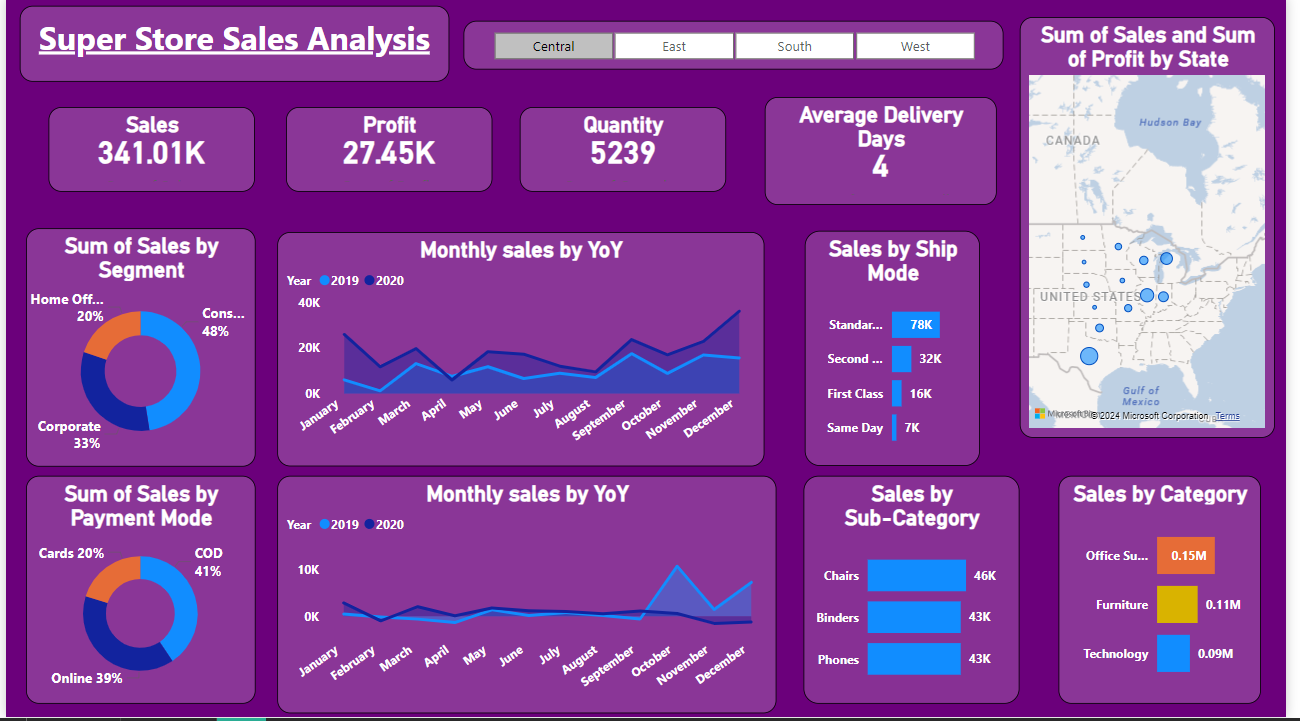

What the dashboard file says about the page in this screenshot:
{"tool":"powerbi","page":{"name":"Page 1","canvas":[1280,720],"ordinal":0},"visuals":[{"type":"clusteredBarChart","title":" Sales by Category","fields":{"Category":["SuperStore_Sales_Dataset.Category"],"Y":["Sum(SuperStore_Sales_Dataset.Sales)"]},"box":[1052.8,478.5,202.5,228.2],"z":0},{"type":"clusteredBarChart","title":" Sales by Sub-Category","fields":{"Category":["SuperStore_Sales_Dataset.Sub-Category"],"Y":["Sum(SuperStore_Sales_Dataset.Sales)"]},"box":[797.6,478.5,216,228.2],"z":1000},{"type":"clusteredBarChart","title":" Sales by Ship Mode","fields":{"Category":["SuperStore_Sales_Dataset.Ship Mode"],"Y":["Sum(SuperStore_Sales_Dataset.Sales)"]},"box":[798.8,234.4,175.5,235.6],"z":2000},{"type":"areaChart","title":" Monthly sales by YoY","fields":{"Y":["Sum(SuperStore_Sales_Dataset.Sales)"],"Series":["SuperStore_Sales_Dataset.Order Date.Variation.Date Hierarchy.Year"],"Category":["SuperStore_Sales_Dataset.Order Date.Variation.Date Hierarchy.Month","SuperStore_Sales_Dataset.Order Date.Variation.Date Hierarchy.Day"]},"box":[270.6,234.8,486.9,234.8],"z":3000},{"type":"areaChart","title":" Monthly sales by YoY","fields":{"Series":["SuperStore_Sales_Dataset.Order Date.Variation.Date Hierarchy.Year"],"Category":["SuperStore_Sales_Dataset.Order Date.Variation.Date Hierarchy.Month","SuperStore_Sales_Dataset.Order Date.Variation.Date Hierarchy.Day"],"Y":["Sum(SuperStore_Sales_Dataset.Profit)"]},"box":[270.6,478.2,499.2,237.3],"z":4000},{"type":"map","fields":{"Category":["SuperStore_Sales_Dataset.State"],"Size":["Sum(SuperStore_Sales_Dataset.Sales)"]},"box":[1013.3,20,255.6,421.1],"z":5000},{"type":"donutChart","fields":{"Category":["SuperStore_Sales_Dataset.Segment"],"Y":["Sum(SuperStore_Sales_Dataset.Sales)"]},"box":[19.8,231.1,229.9,238.5],"z":6000},{"type":"donutChart","fields":{"Category":["SuperStore_Sales_Dataset.Payment Mode"],"Y":["Sum(SuperStore_Sales_Dataset.Sales)"]},"box":[19.6,478.5,229.4,228.2],"z":7000},{"type":"slicer","fields":{"Values":["SuperStore_Sales_Dataset.Region"]},"box":[457.8,23.3,540,48.9],"z":8000},{"type":"textbox","box":[13.5,8.6,429.5,76.1],"z":9000},{"type":"card","title":"Sales","fields":{"Values":["Sum(SuperStore_Sales_Dataset.Sales)"]},"box":[42.9,110.4,206.1,84.7],"z":10000},{"type":"card","title":"Profit","fields":{"Values":["Sum(SuperStore_Sales_Dataset.Profit)"]},"box":[279.8,110.4,206.1,84.7],"z":11000},{"type":"card","title":"Quantity","fields":{"Values":["Sum(SuperStore_Sales_Dataset.Quantity)"]},"box":[514.1,110.4,206.1,84.7],"z":12000},{"type":"card","title":"Average Delivery Days","fields":{"Values":["Avg(SuperStore_Sales_Dataset.Average_Delivery_Days)"]},"box":[758.3,99.4,231.9,108],"z":13000}]}

Visuals, with their boxes in screenshot pixels (x1, y1, x2, y2), scaled from the page's 1280x720 canvas onto the 1300x721 screenshot:
" Sales by Category" clusteredBarChart: <bbox>1069, 479, 1275, 708</bbox>
" Sales by Sub-Category" clusteredBarChart: <bbox>810, 479, 1029, 708</bbox>
" Sales by Ship Mode" clusteredBarChart: <bbox>811, 235, 990, 471</bbox>
" Monthly sales by YoY" areaChart: <bbox>275, 235, 769, 470</bbox>
" Monthly sales by YoY" areaChart: <bbox>275, 479, 782, 716</bbox>
map - SuperStore_Sales_Dataset.State x Sum(SuperStore_Sales_Dataset.Sales): <bbox>1029, 20, 1289, 442</bbox>
donutChart - SuperStore_Sales_Dataset.Segment x Sum(SuperStore_Sales_Dataset.Sales): <bbox>20, 231, 254, 470</bbox>
donutChart - SuperStore_Sales_Dataset.Payment Mode x Sum(SuperStore_Sales_Dataset.Sales): <bbox>20, 479, 253, 708</bbox>
slicer - SuperStore_Sales_Dataset.Region: <bbox>465, 23, 1013, 72</bbox>
textbox: <bbox>14, 9, 450, 85</bbox>
"Sales" card: <bbox>44, 111, 253, 195</bbox>
"Profit" card: <bbox>284, 111, 493, 195</bbox>
"Quantity" card: <bbox>522, 111, 731, 195</bbox>
"Average Delivery Days" card: <bbox>770, 100, 1006, 208</bbox>
